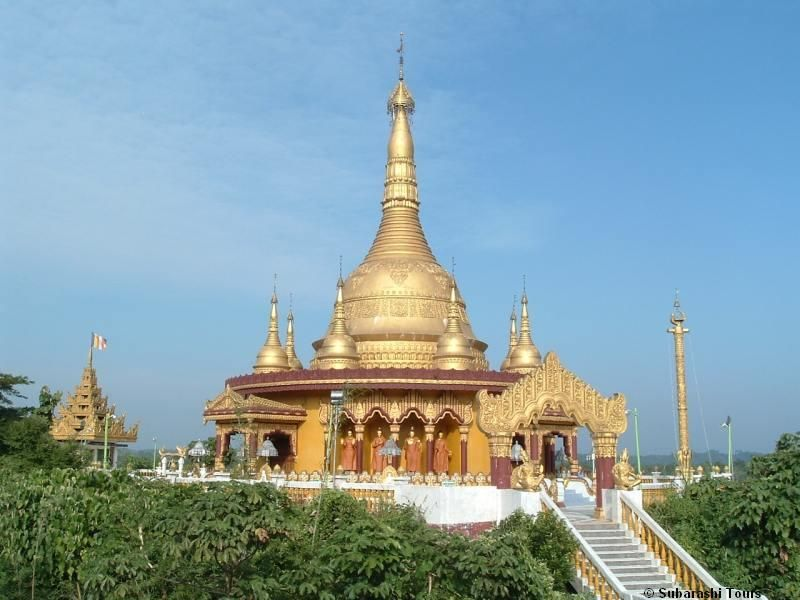Temple: (179, 53, 657, 476)
